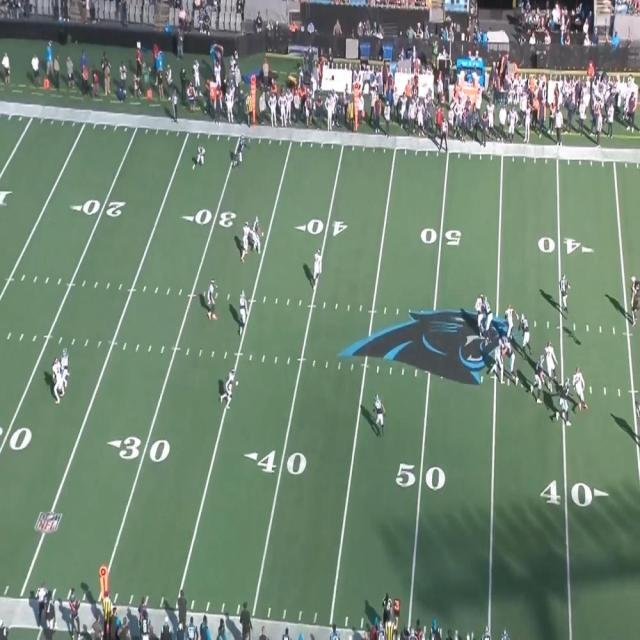db: (51, 355, 64, 405), (240, 220, 252, 256), (206, 280, 216, 320), (226, 368, 235, 406), (196, 143, 207, 167)
lb: (311, 250, 321, 290)
qb: (559, 276, 568, 318)
skill: (234, 134, 247, 164), (374, 396, 384, 434), (237, 290, 247, 326), (253, 215, 262, 248), (62, 350, 69, 388)
